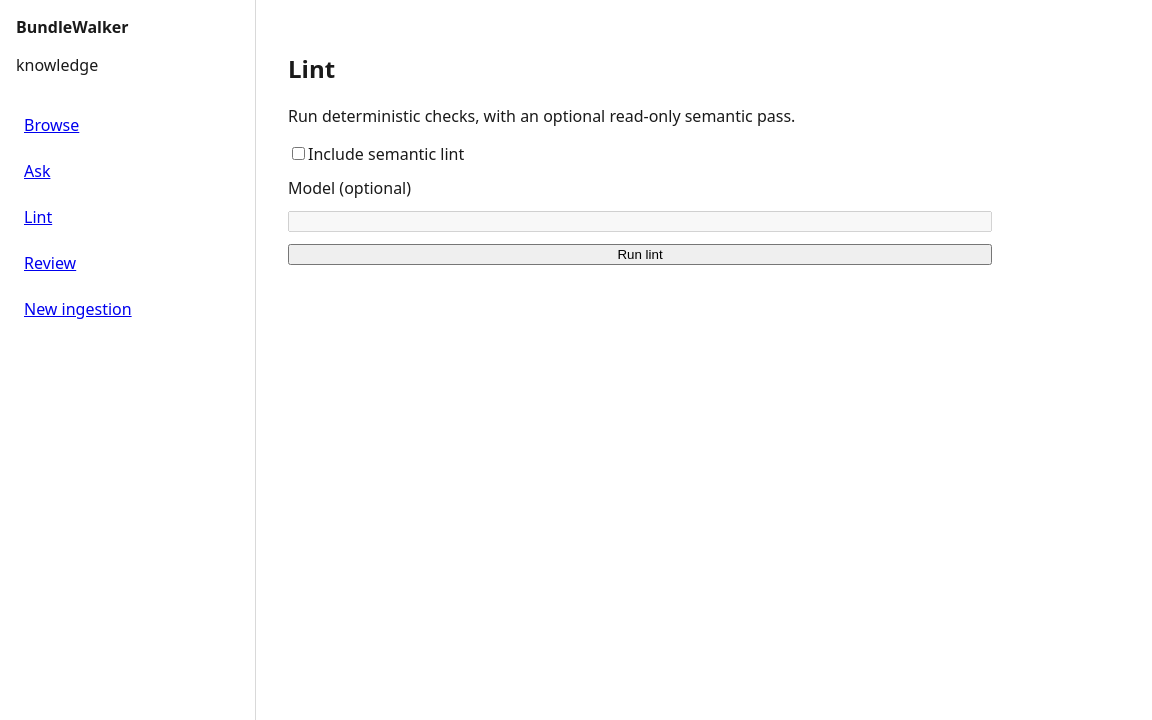
does not render empty nested groups when an origin has no findings
The width and height of the screenshot is (1152, 720).
Click the button "Run lint".
click(640, 254)  # box [288,244,992,265]
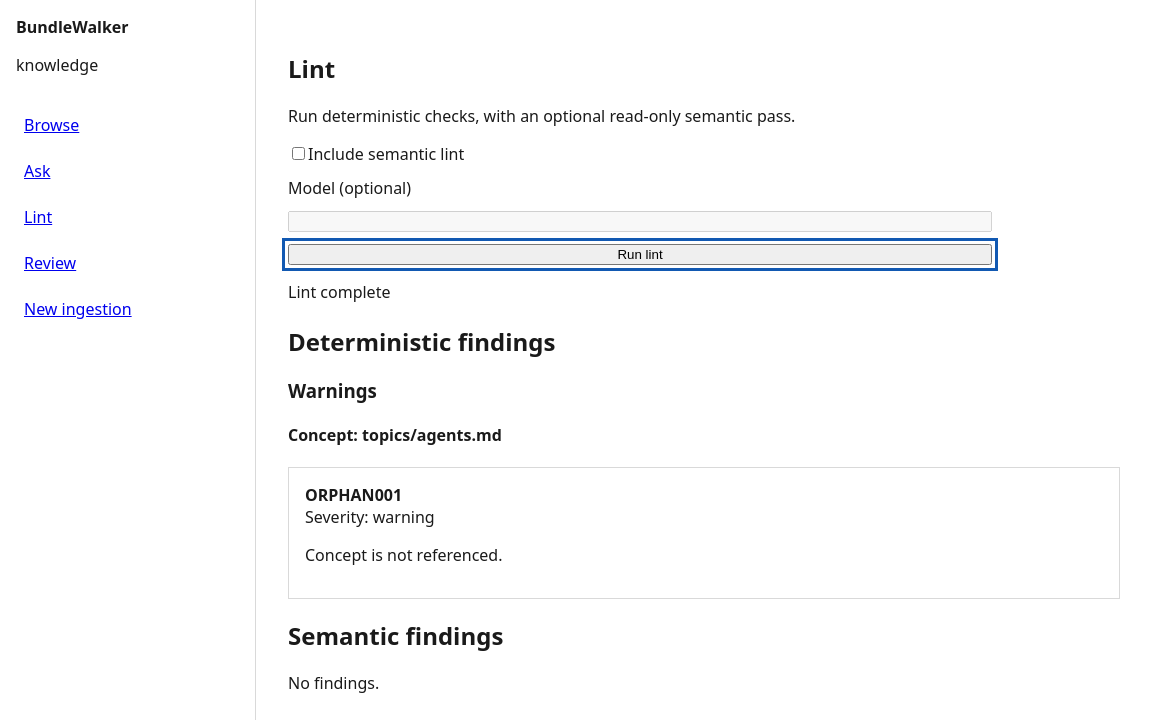
Now the element "Semantic findings" shows "No findings.", box [288,672,379,694]
